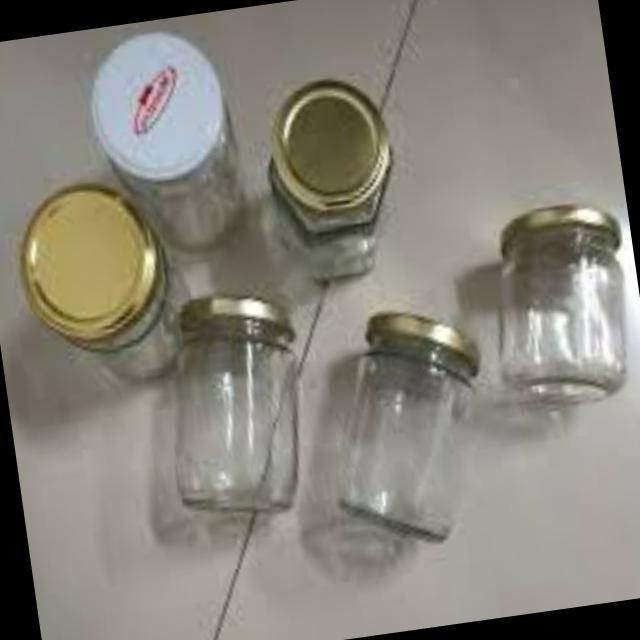ToplesKaca: (0, 0, 514, 603), (476, 187, 640, 430)
